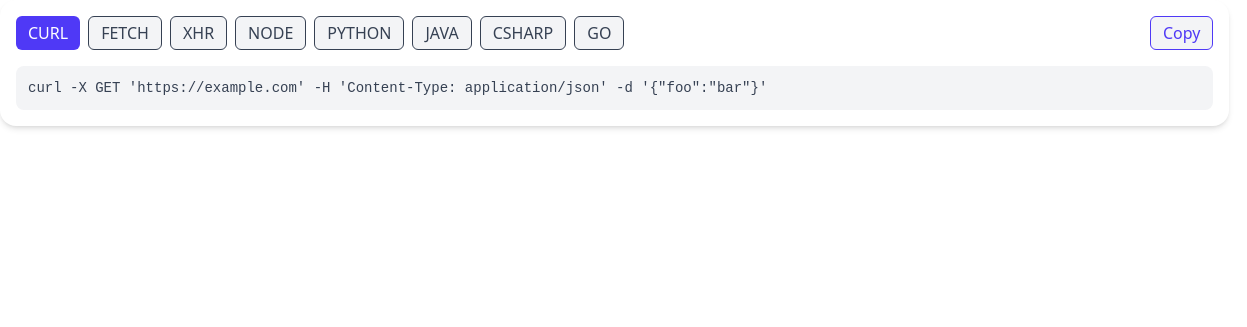
Test: CodeGenerator › generates python code
Click the button "PYTHON".
click(359, 33)  # box [314,16,404,50]
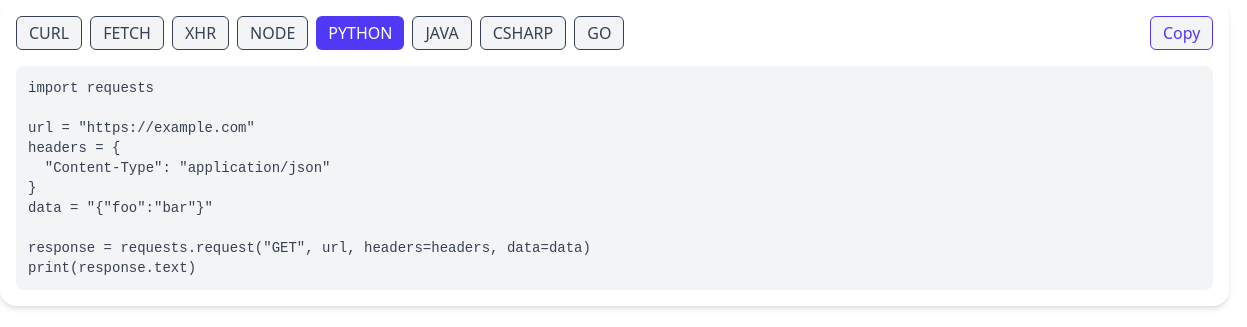
Expected: the text "import requests" is shown, [28,80,591,276]
